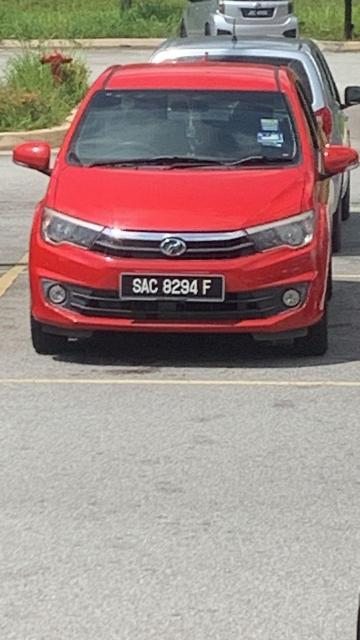License_Plate: (123, 275, 226, 303)
car: (6, 63, 360, 368)
